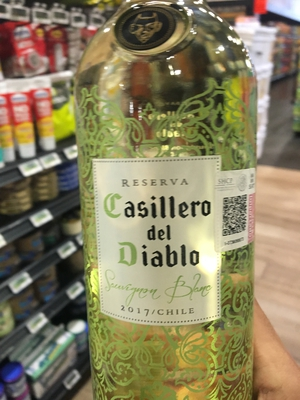casillero del diablo sauvignon blanc: (67, 14, 265, 384)
